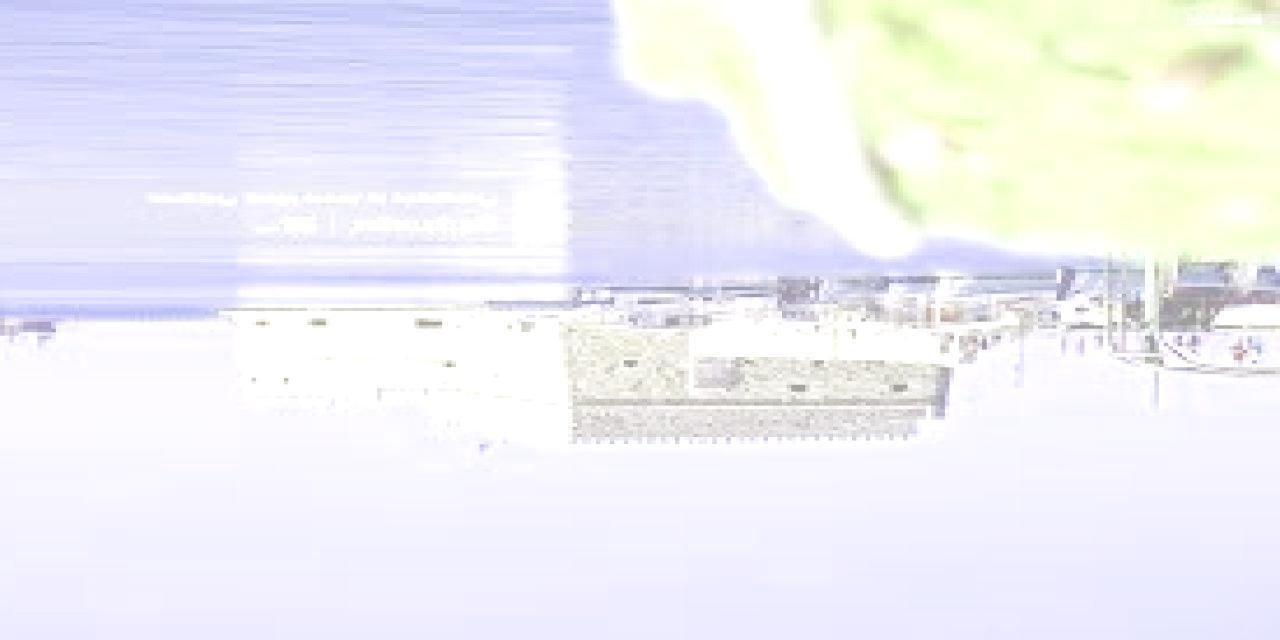Kules: (219, 303, 956, 457)
